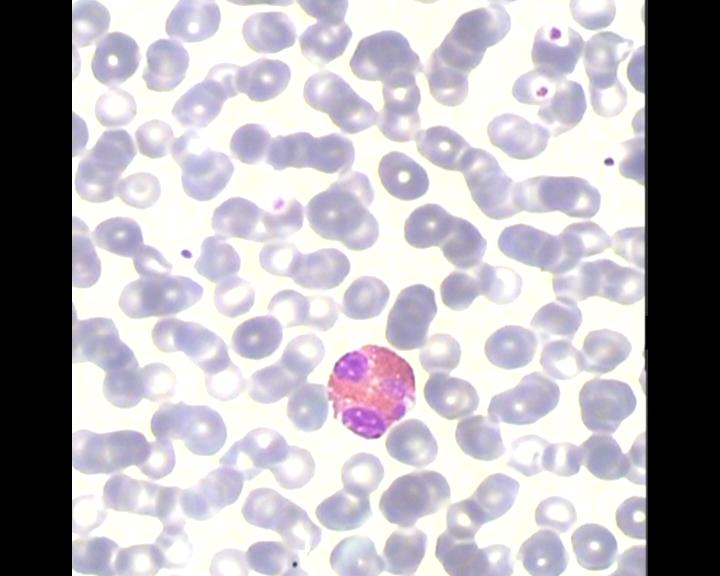eosi: (324, 341, 419, 441)
